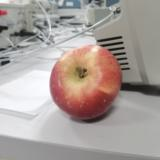apple: (50, 45, 122, 121)
